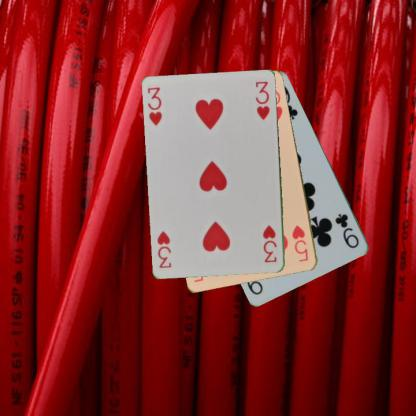3h: (145, 85, 164, 127), (260, 222, 278, 264)
5h: (290, 223, 310, 264)
9c: (332, 211, 361, 249)
